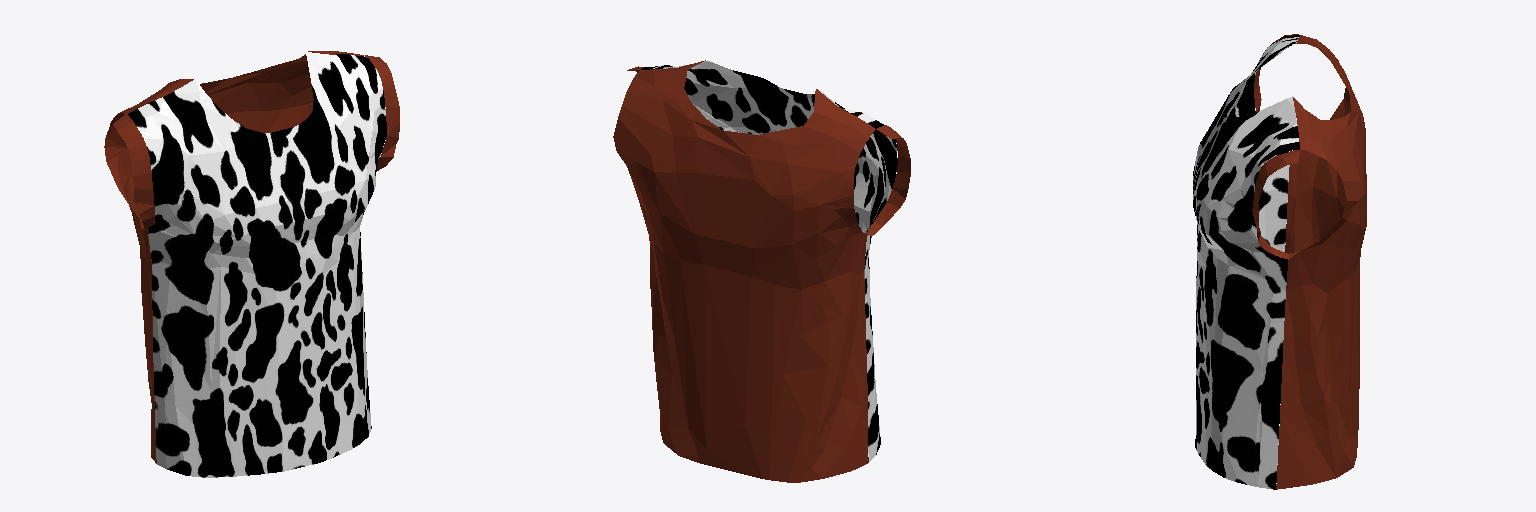
3 views of the same model, side by side, from view 1: azimuth 30°, elevation 25°; view 2: azimuth 150°, elevation 25°; view 3: azimuth 270°, elevation 25° (orthographic).
Visible parts, largest first — view 1: T_shirt; view 2: T_shirt; view 3: T_shirt.
Boxes of the visible parts, x1,y1,x2,y2 form: T_shirt: [104, 51, 399, 477]; T_shirt: [613, 60, 910, 482]; T_shirt: [1193, 34, 1366, 489].
Bounding box in the file's own units: 0.2935 × 0.3892 × 0.1639.
2 materials, 1 textured.